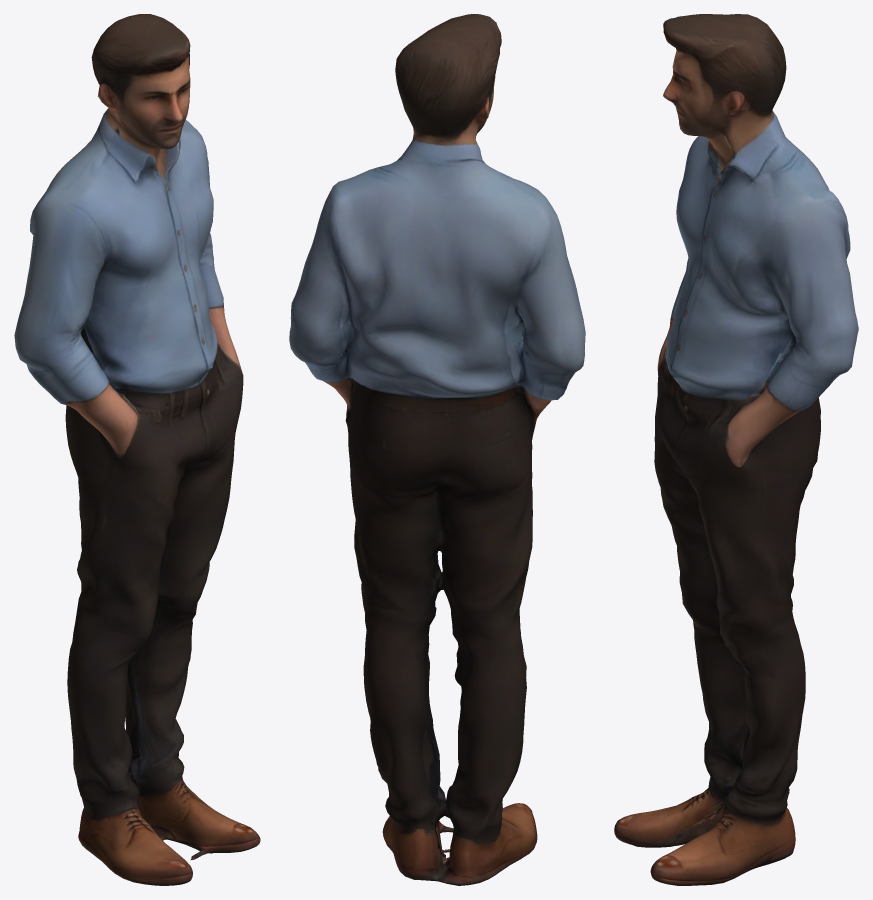
Rendered from dono.glb.
3 renders of one model, left to right at view 1: azimuth 30°, elevation 25°; view 2: azimuth 150°, elevation 25°; view 3: azimuth 270°, elevation 25°, orthographic.
Bounding box in the file's own units: 0.5409 × 1.78 × 0.4746.
Materials: 1 (1 with a texture image).
